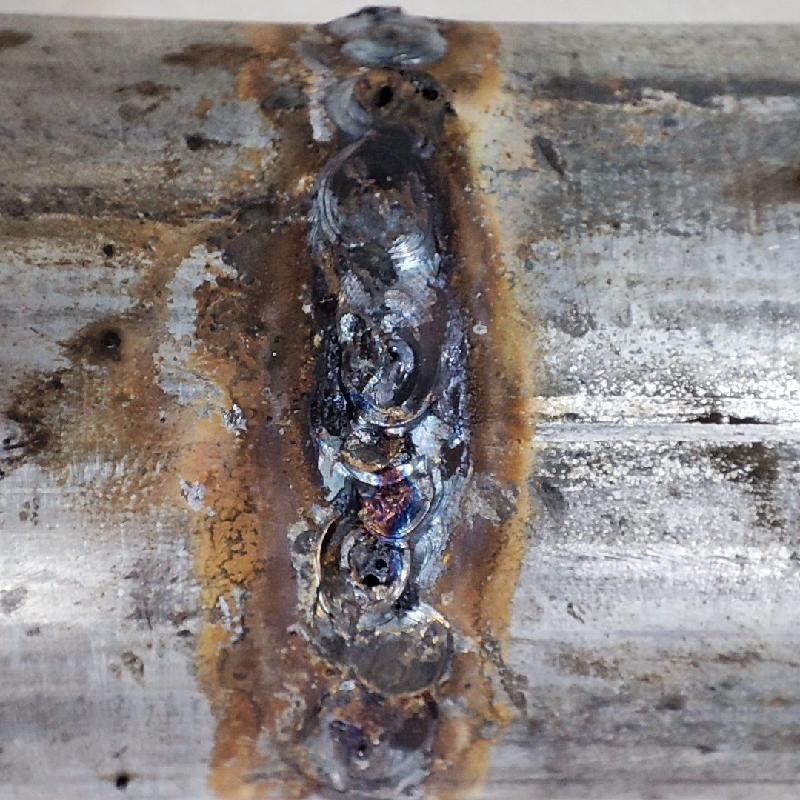Surface_pores: (348, 57, 446, 118), (345, 543, 404, 597)
crater: (295, 297, 458, 607)
wrong_size: (293, 5, 473, 295)
